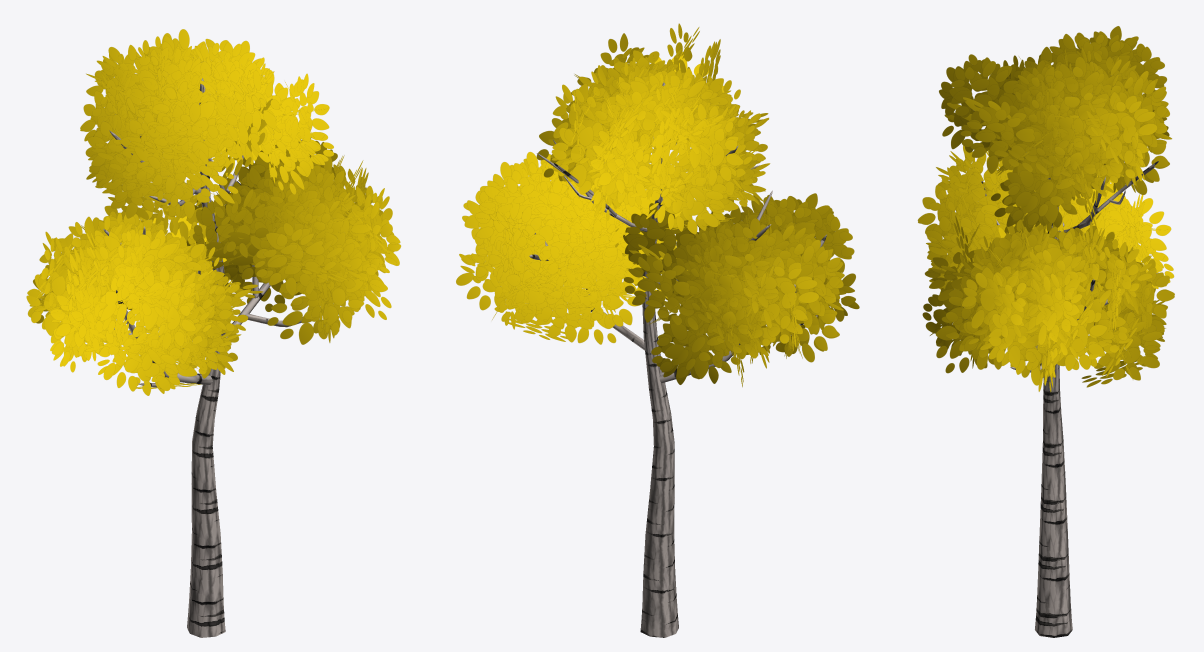
The model's file is BirchTree_4.gltf.
The picture shows the model from 3 angles, left to right: view 1: azimuth 30°, elevation 25°; view 2: azimuth 150°, elevation 25°; view 3: azimuth 270°, elevation 25°; orthographic projection.
Parts seen in each view (by area): view 1: BirchTree_4; view 2: BirchTree_4; view 3: BirchTree_4.
Boxes of the visible parts, x1,y1,x2,y2 form: BirchTree_4: (26, 29, 400, 637); BirchTree_4: (456, 23, 859, 637); BirchTree_4: (917, 26, 1174, 637).
Size of the model in its own units: 2.78 by 4.21 by 1.84.
2 materials, 2 textured.
